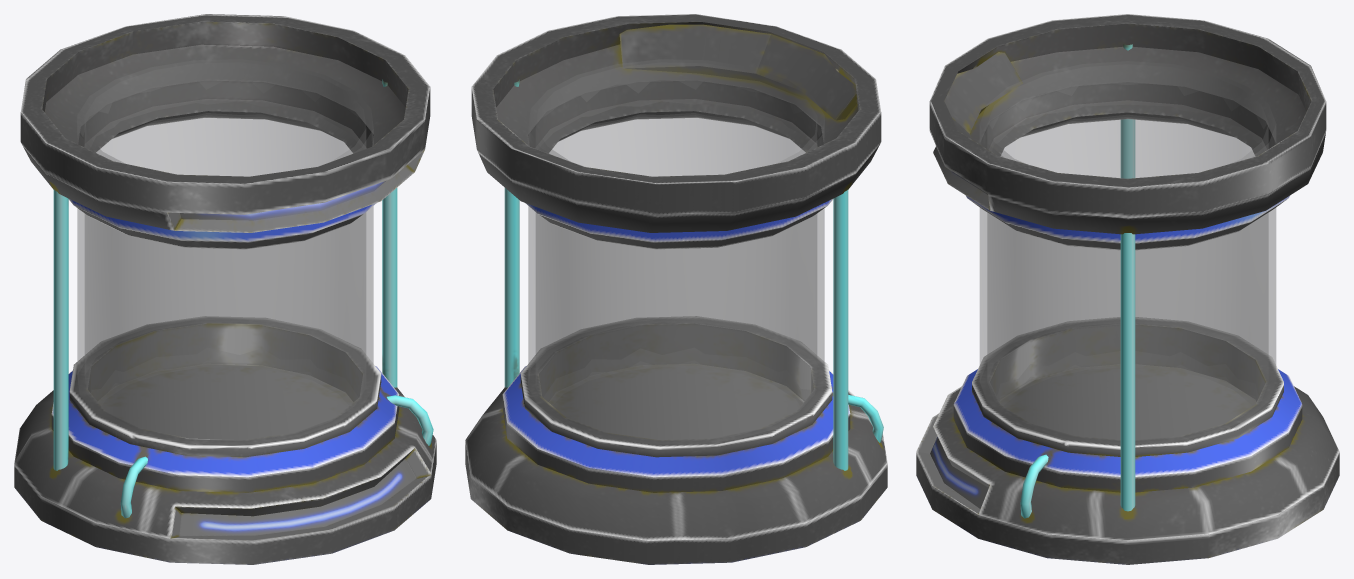
The model's file is 57_Holder_Scifi.fbx.
3 views of the same model, side by side, from view 1: azimuth 30°, elevation 25°; view 2: azimuth 150°, elevation 25°; view 3: azimuth 270°, elevation 25° (orthographic).
Parts seen in each view (by area): view 1: Scifi_part02, Scifi_part01; view 2: Scifi_part02, Scifi_part01; view 3: Scifi_part02, Scifi_part01.
Part boxes in pixels (x1=…): Scifi_part02: x1=14, y1=14, x2=436, y2=564; Scifi_part01: x1=77, y1=59, x2=373, y2=444; Scifi_part02: x1=465, y1=14, x2=887, y2=564; Scifi_part01: x1=528, y1=59, x2=824, y2=444; Scifi_part02: x1=916, y1=14, x2=1339, y2=564; Scifi_part01: x1=980, y1=61, x2=1275, y2=443.
Size of the model in its own units: 2.8 by 2.73 by 2.8.
